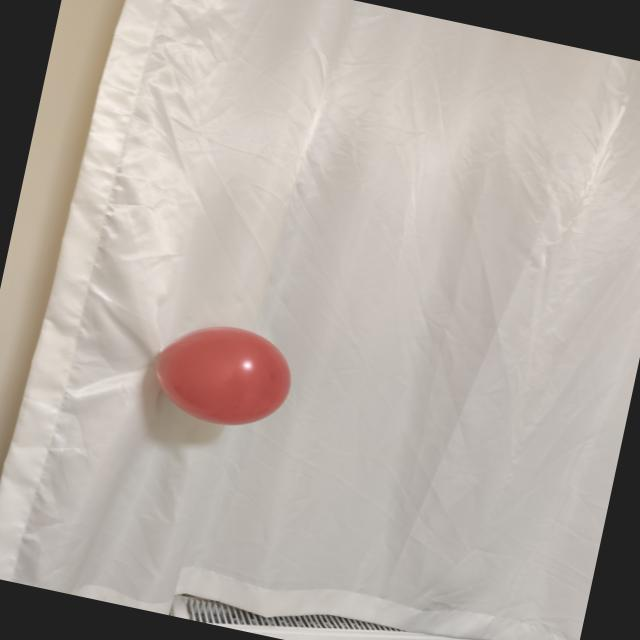balloon: (156, 327, 290, 424)
